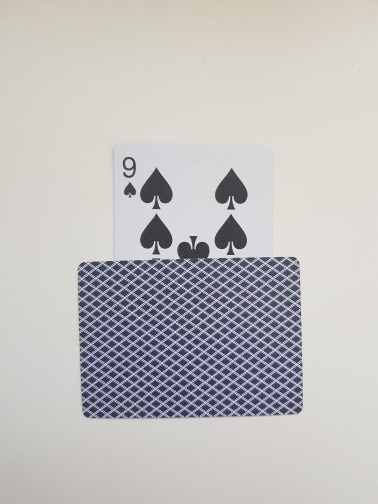nine: (114, 143, 276, 371)
